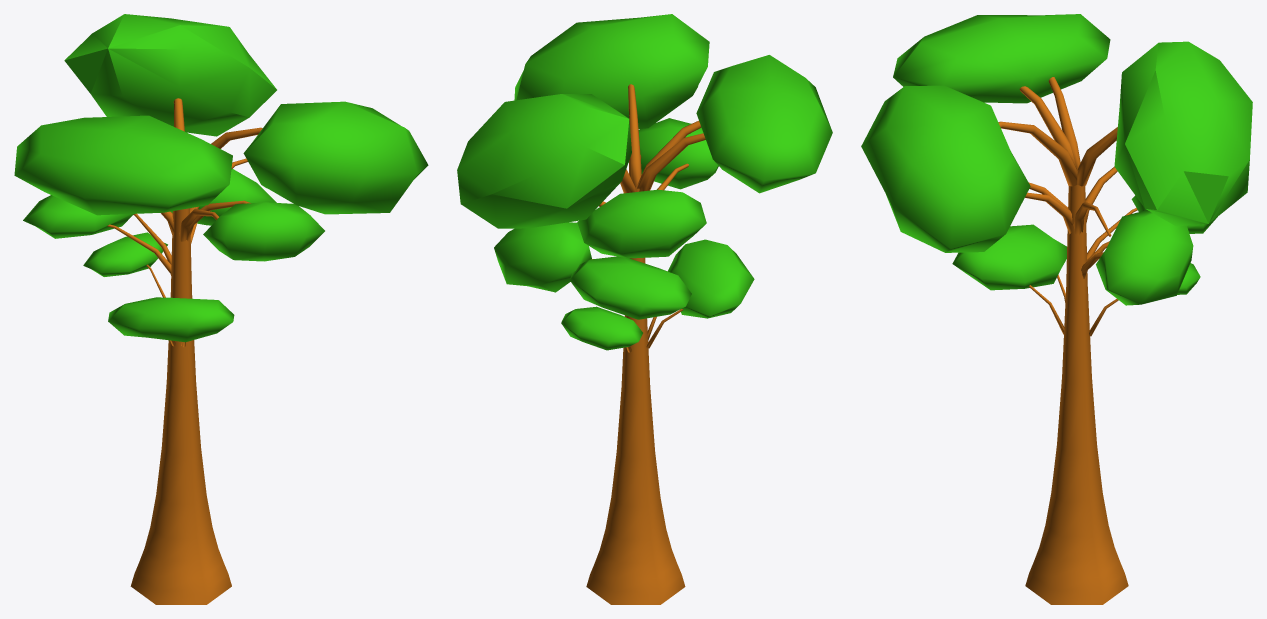
Rendered from peripheral tree.fbx.
The picture shows the model from 3 angles, left to right: view 1: azimuth 30°, elevation 25°; view 2: azimuth 150°, elevation 25°; view 3: azimuth 270°, elevation 25°; orthographic projection. The views are drawn at different scales.
Parts seen in each view (by area): view 1: Subdivision_Surface_8, Trunk; view 2: Subdivision_Surface_8, Trunk; view 3: Subdivision_Surface_8, Trunk.
Part boxes in pixels (left/top/right/bottom): Subdivision_Surface_8: left=14, top=14, right=428, bottom=342; Trunk: left=107, top=98, right=262, bottom=604; Subdivision_Surface_8: left=457, top=14, right=832, bottom=350; Trunk: left=586, top=84, right=705, bottom=604; Subdivision_Surface_8: left=861, top=14, right=1252, bottom=305; Trunk: left=998, top=77, right=1137, bottom=604.
Size of the model in its own units: 2276 by 3210 by 2097.
